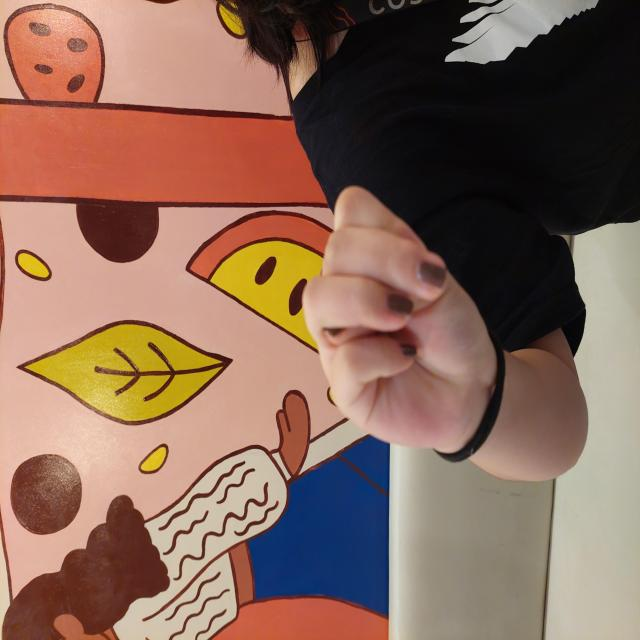M: (256, 160, 520, 508)
